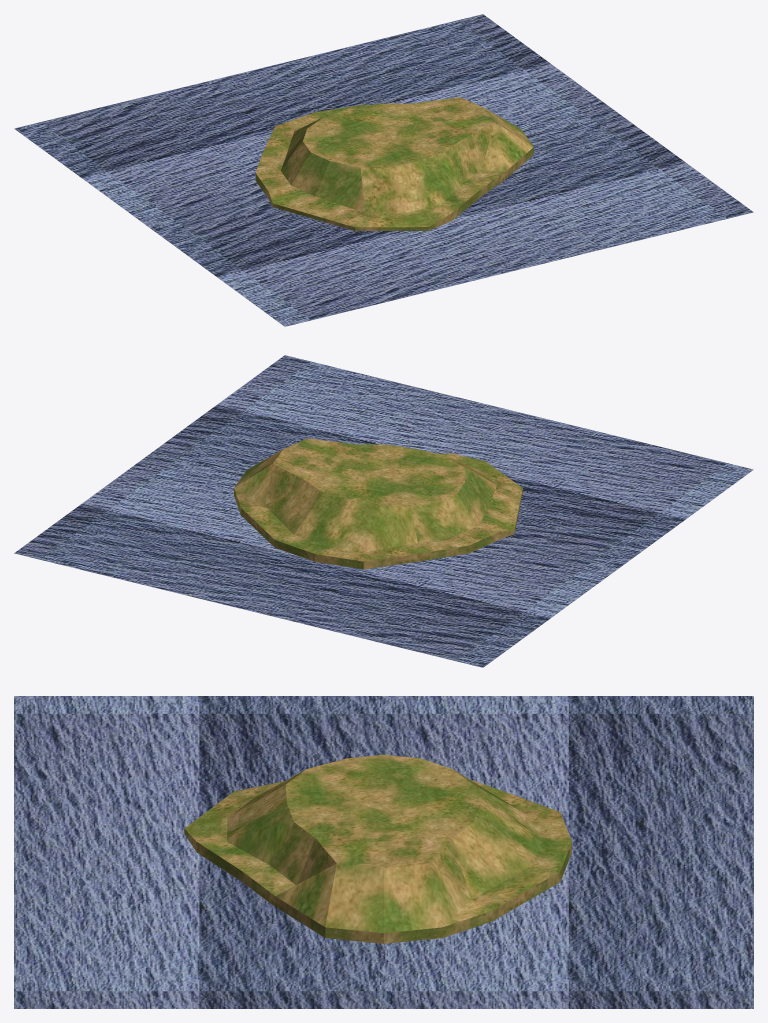
Rendered from terreno.obj.
3 renders of one model, top to bottom at view 1: azimuth 30°, elevation 25°; view 2: azimuth 150°, elevation 25°; view 3: azimuth 270°, elevation 25°, orthographic. The views are drawn at different scales.
Visible parts, largest first — view 1: Cylinder; view 2: Cylinder; view 3: Cylinder.
Part boxes in pixels (left/top/right/bottom): Cylinder: left=14, top=14, right=753, bottom=326; Cylinder: left=14, top=355, right=753, bottom=667; Cylinder: left=14, top=696, right=753, bottom=1008.
Size of the model in its own units: 25.84 by 1.99 by 25.84.
2 materials, 2 textured.
